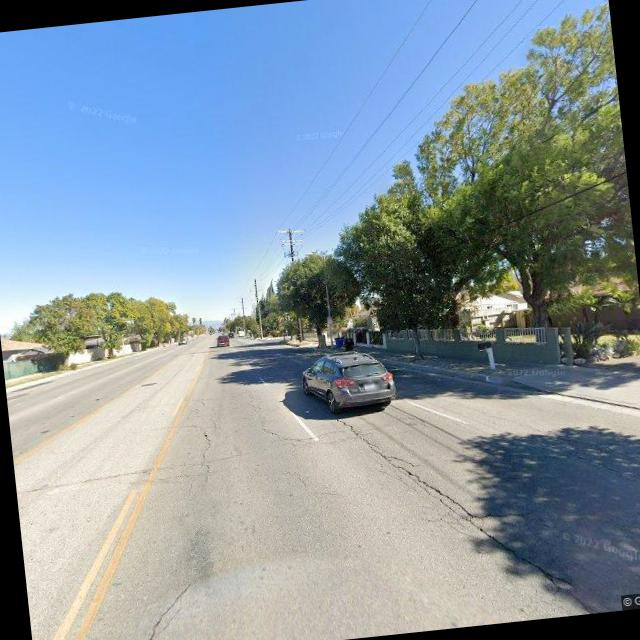crack: (328, 380, 581, 626), (15, 456, 214, 508), (244, 389, 351, 453), (180, 376, 227, 481), (123, 577, 196, 640)
